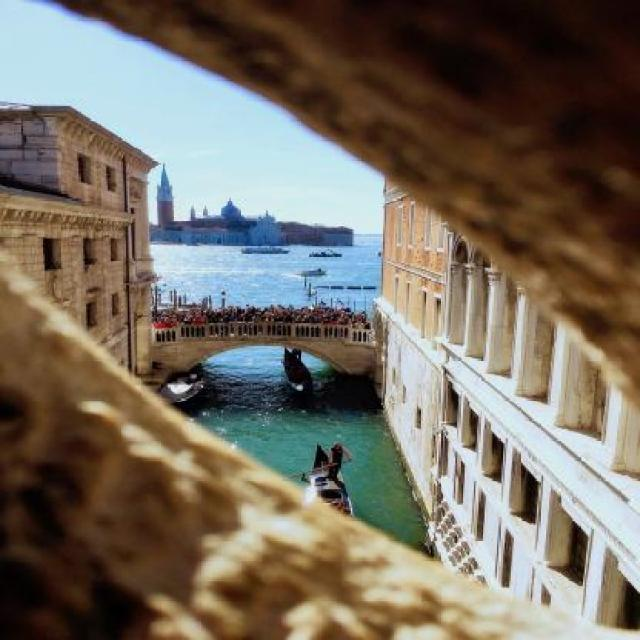ship: (299, 440, 355, 515), (151, 375, 212, 403), (278, 346, 312, 392)
